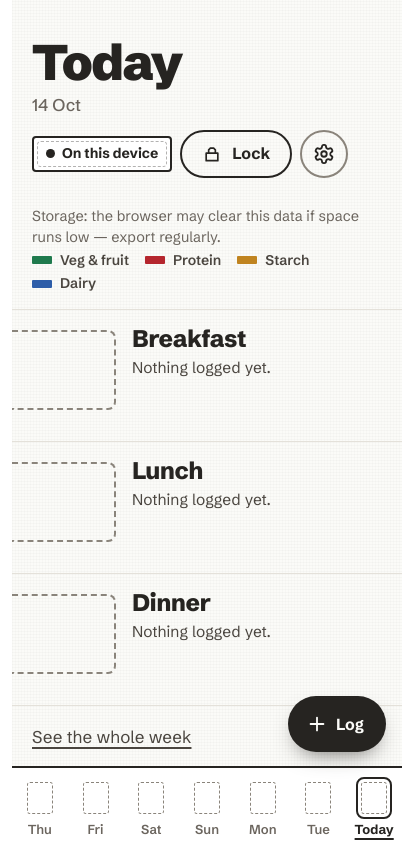
Test case: TodayScreen: the day as a map › an older day is titled by its weekday
The width and height of the screenshot is (414, 844).
Expected: the heading "Breakfast" is shown, x1=132 y1=324 x2=246 y2=353
Click the button named "Sunday, nothing logged".
click(207, 806)  # box x1=179 y1=768 x2=235 y2=843
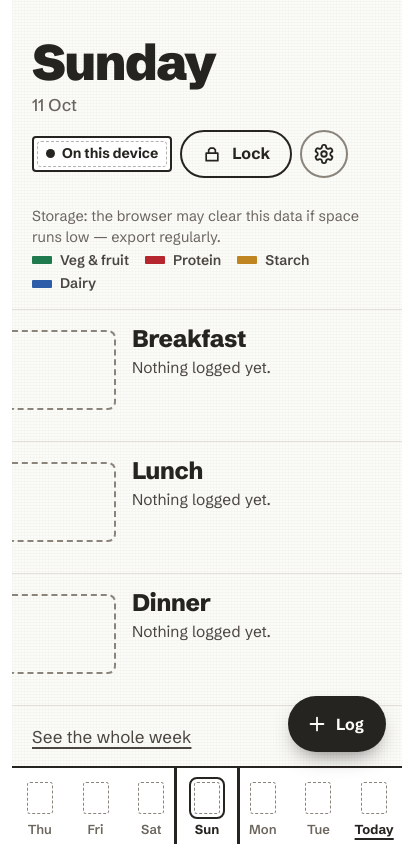
Result: the heading "Sunday" is shown at x1=32 y1=40 x2=215 y2=85
